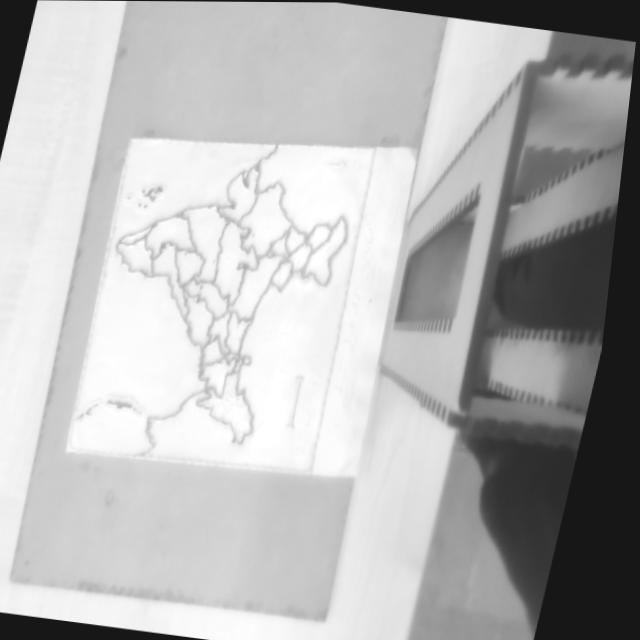map: (65, 100, 375, 497)
